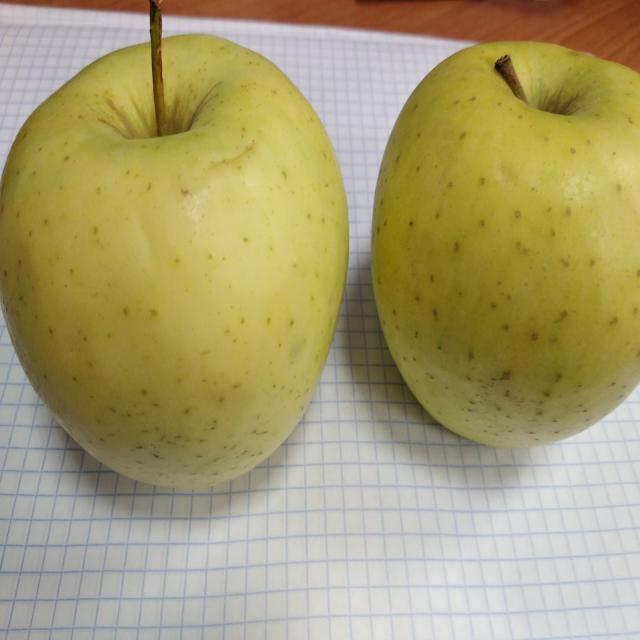Fresh Apple: (17, 30, 343, 478), (376, 46, 640, 431)
